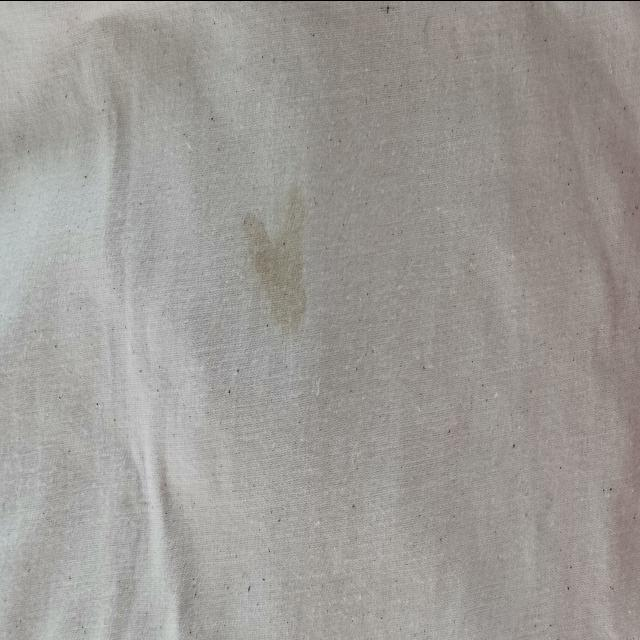taaaches: (238, 178, 316, 342)
